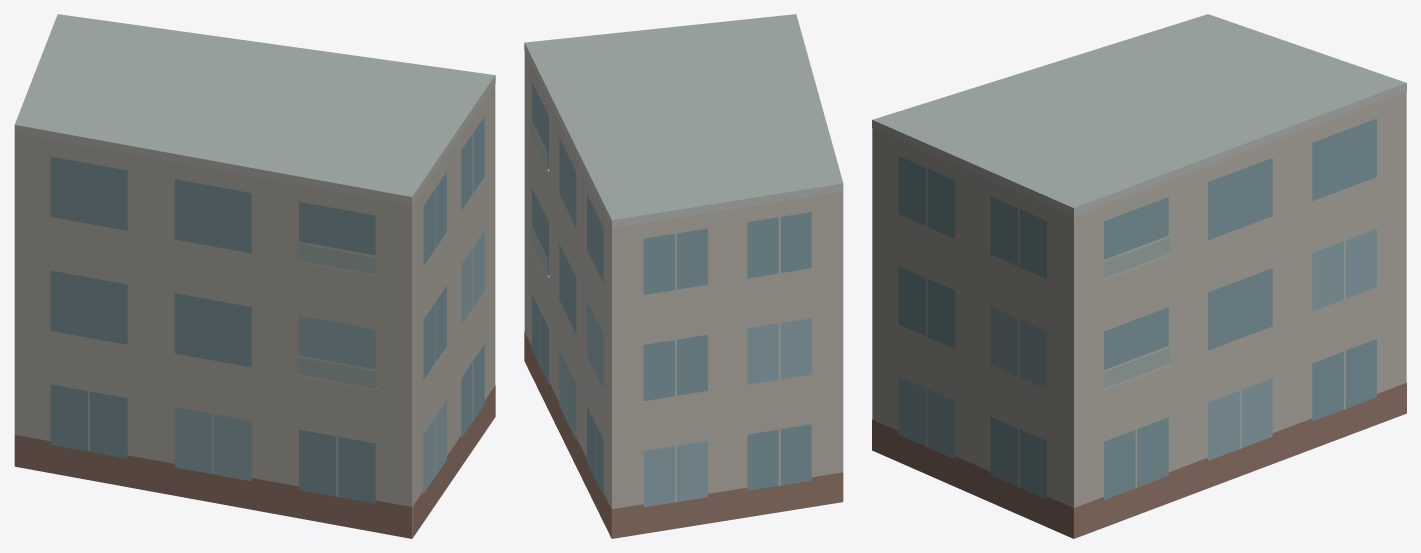
File: survey-upis-32896125.glb
The picture shows the model from 3 angles, left to right: view 1: azimuth 30°, elevation 25°; view 2: azimuth 150°, elevation 25°; view 3: azimuth 270°, elevation 25°; orthographic projection. The views are drawn at different scales.
Visible parts, largest first — view 1: survey-upis-32896125.tmp; view 2: survey-upis-32896125.tmp; view 3: survey-upis-32896125.tmp.
Boxes of the visible parts, bbox=[...] form: survey-upis-32896125.tmp: bbox=[14, 14, 495, 538]; survey-upis-32896125.tmp: bbox=[524, 14, 843, 538]; survey-upis-32896125.tmp: bbox=[872, 14, 1406, 538].
Size of the model in its own units: 12.1 by 9.6 by 14.07.
